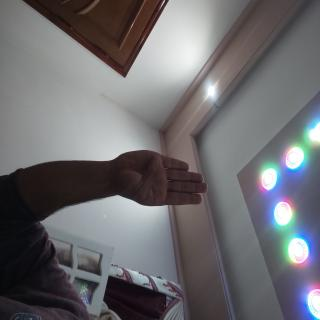KAAF: (110, 143, 159, 284)
